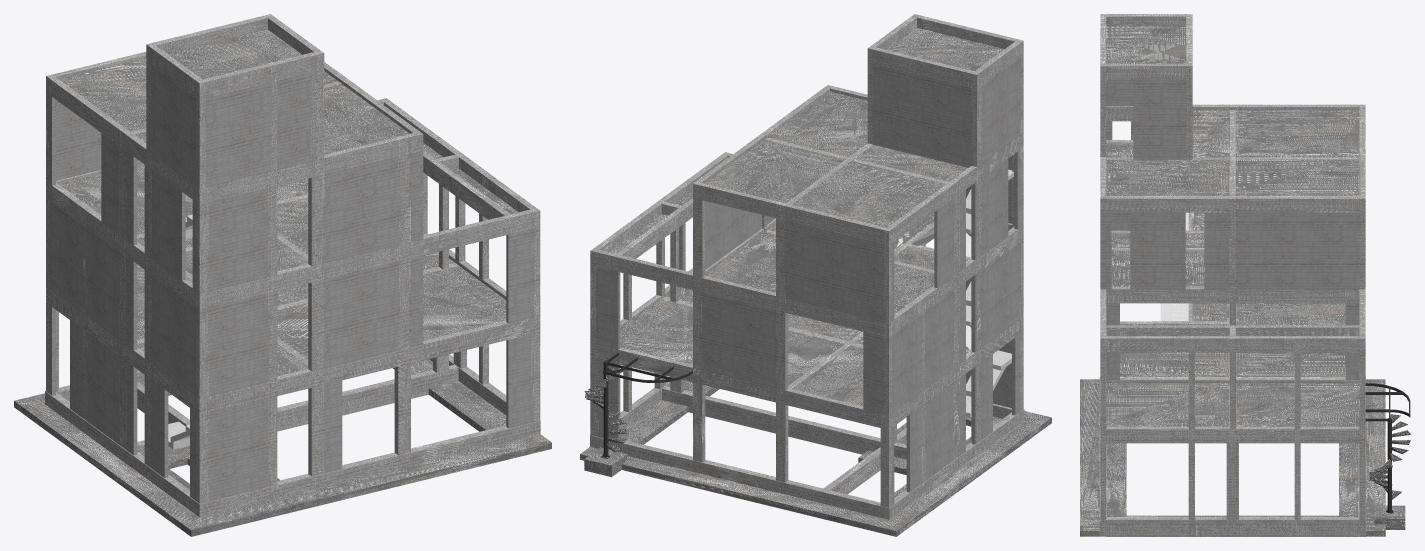
The model's file is vivienda-lt.dae.
3 views of the same model, side by side, from view 1: azimuth 30°, elevation 25°; view 2: azimuth 150°, elevation 25°; view 3: azimuth 270°, elevation 25° (orthographic). The views are drawn at different scales.
Visible parts, largest first — view 1: group_1 (×8), group_2 (×7), group_4 (×8), Plateas_1 (×2), group_3 (×3), Vig_fund_3 (×3), Vig2_3 (×8), Col1_2 (×7), Vig3_3 (×5), Vig1_3 (×5), Col2_3 (×7), Cas3_1 (×2) (+6 smaller); view 2: group_1 (×6), Cas3_1 (×4), group_2 (×4), Vig_fund_3 (×2), group_3 (×2), Plateas_1 (×2), Vig2_3 (×6), Cas1_1 (×4), Vig3_3 (×5), group_4 (×6), Vig1_3 (×4), Vig4_2 (+8 smaller); view 3: Cas1_1 (×7), Cas3_1 (×5), group_2 (×4), Vig2_3 (×5), Plateas_1 (×3), Vig3_3 (×5), Vig1_3 (×6), Vig_fund_3 (×2), group_3 (×2), Col1_2 (×5), Col2_3 (×5), Vig4_2 (+9 smaller).
Part boxes in pixels (x1,y1,x2,y2): group_1 (×8): (49, 200, 533, 396); group_2 (×7): (56, 100, 423, 291); group_4 (×8): (70, 320, 530, 501); Plateas_1 (×2): (14, 381, 551, 536); group_3 (×3): (151, 65, 311, 186); Vig_fund_3 (×3): (45, 354, 540, 517); Vig2_3 (×8): (46, 127, 540, 309); Col1_2 (×7): (46, 286, 540, 503); Vig3_3 (×5): (46, 51, 423, 204); Vig1_3 (×5): (46, 264, 540, 413); Col2_3 (×7): (119, 157, 540, 398); Cas3_1 (×2): (59, 58, 409, 154); group_1 (×6): (596, 242, 1020, 414); Cas3_1 (×4): (705, 91, 953, 227); group_2 (×4): (705, 159, 1008, 322); Vig_fund_3 (×2): (590, 376, 1024, 519); group_3 (×2): (873, 57, 1020, 167); Plateas_1 (×2): (580, 400, 1051, 536); Vig2_3 (×6): (590, 187, 1020, 336); Cas1_1 (×4): (620, 305, 863, 406); Vig3_3 (×5): (693, 85, 1020, 245); group_4 (×6): (598, 326, 1020, 492); Vig1_3 (×4): (590, 318, 1023, 429); Vig4_2: (867, 14, 1023, 88); Cas1_1 (×7): (1106, 303, 1359, 426); Cas3_1 (×5): (1106, 110, 1359, 195); group_2 (×4): (1100, 212, 1359, 289); Vig2_3 (×5): (1100, 286, 1365, 352); Plateas_1 (×3): (1080, 379, 1385, 536); Vig3_3 (×5): (1100, 104, 1365, 212); Vig1_3 (×6): (1100, 303, 1365, 443); Vig_fund_3 (×2): (1099, 406, 1365, 536); group_3 (×2): (1106, 80, 1186, 159); Col1_2 (×5): (1100, 426, 1365, 519); Col2_3 (×5): (1100, 336, 1365, 429); Vig4_2: (1100, 14, 1192, 80).
Size of the model in its own units: 456 by 419 by 531.
